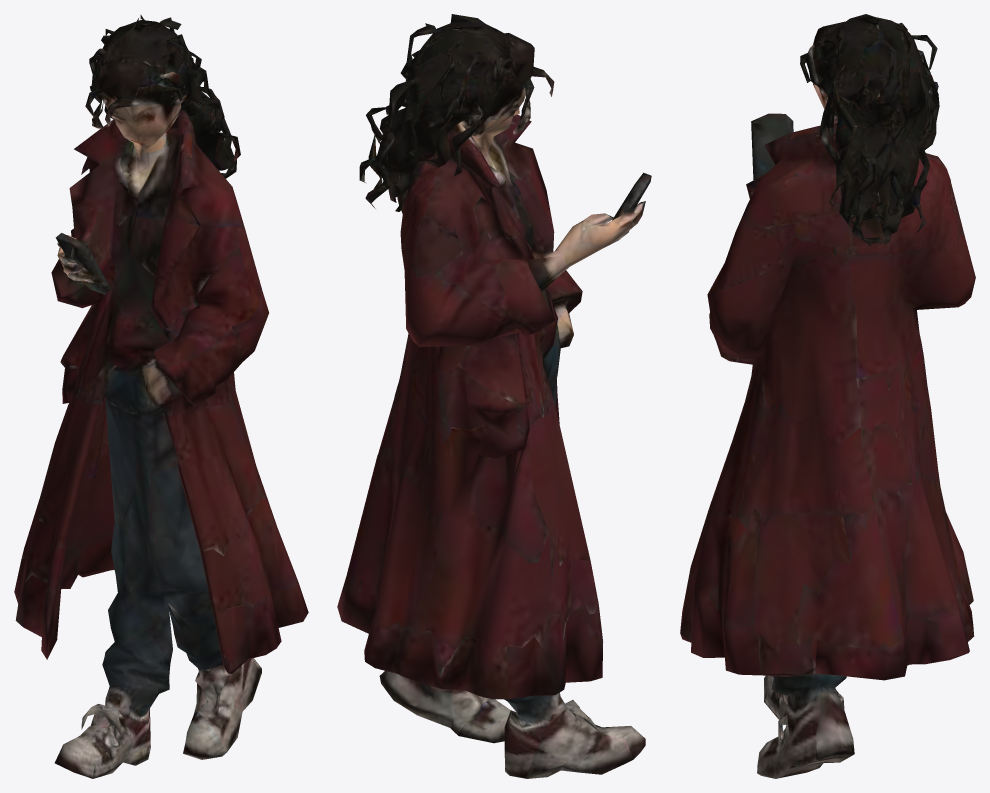
File: girl.glb
3 renders of one model, left to right at view 1: azimuth 30°, elevation 25°; view 2: azimuth 150°, elevation 25°; view 3: azimuth 270°, elevation 25°, orthographic. The views are drawn at different scales.
Bounding box in the file's own units: 24.23 × 67.2 × 24.03.
Materials: 1 (1 with a texture image).
